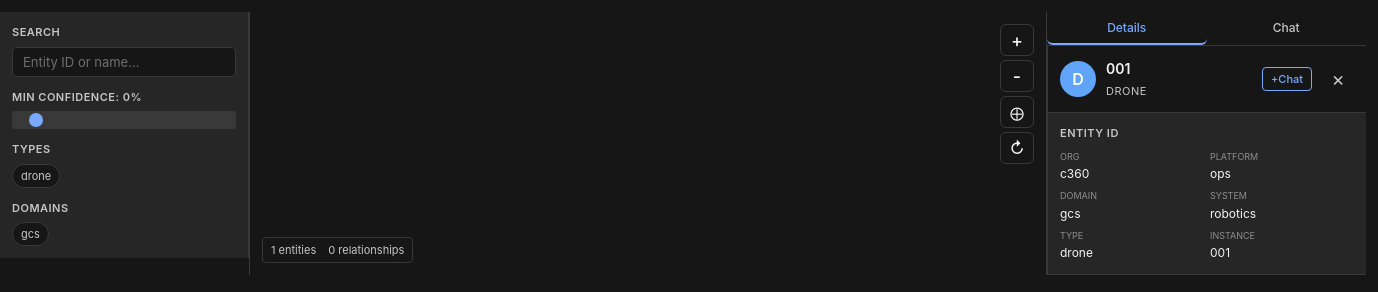
Test: DataView — entity to chip integration › clicking '+Chat' switches right panel to Chat tab
Click the button "+Chat" at [1287, 79], box [1262,67,1312,91]
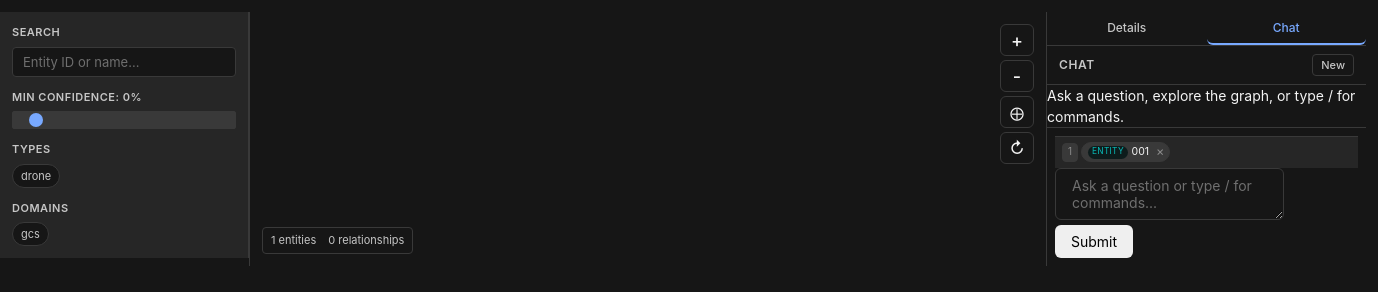
Now the element with test id "chat-panel" is shown, box [1047,46,1366,266]
